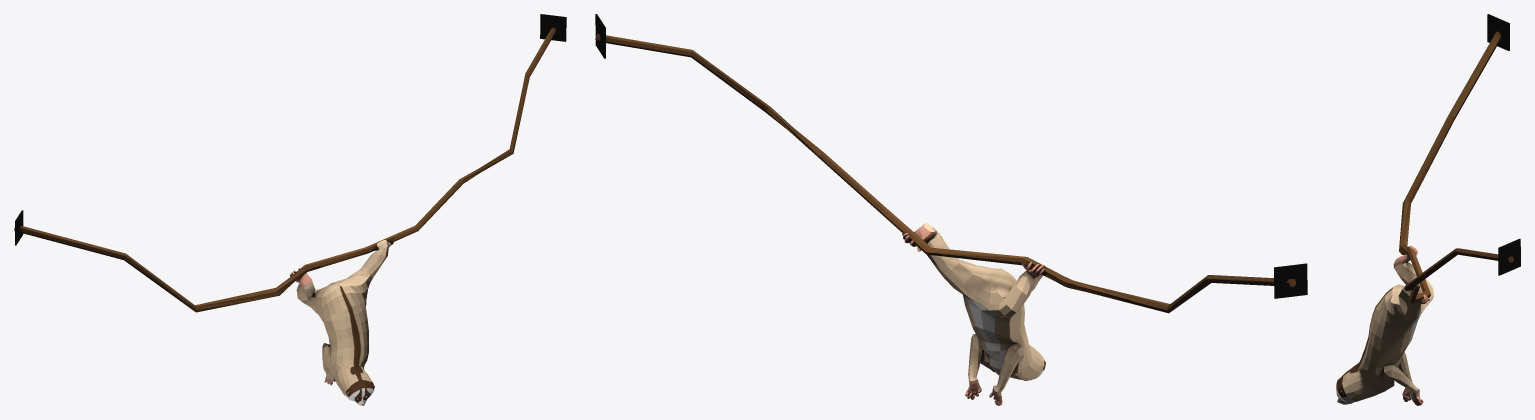
Rendered from loris.glb.
3 views of the same model, side by side, from view 1: azimuth 30°, elevation 25°; view 2: azimuth 150°, elevation 25°; view 3: azimuth 270°, elevation 25° (orthographic). The views are drawn at different scales.
Size of the model in its own units: 1.34 by 0.6256 by 0.341.
Materials: 1 (1 with a texture image).
